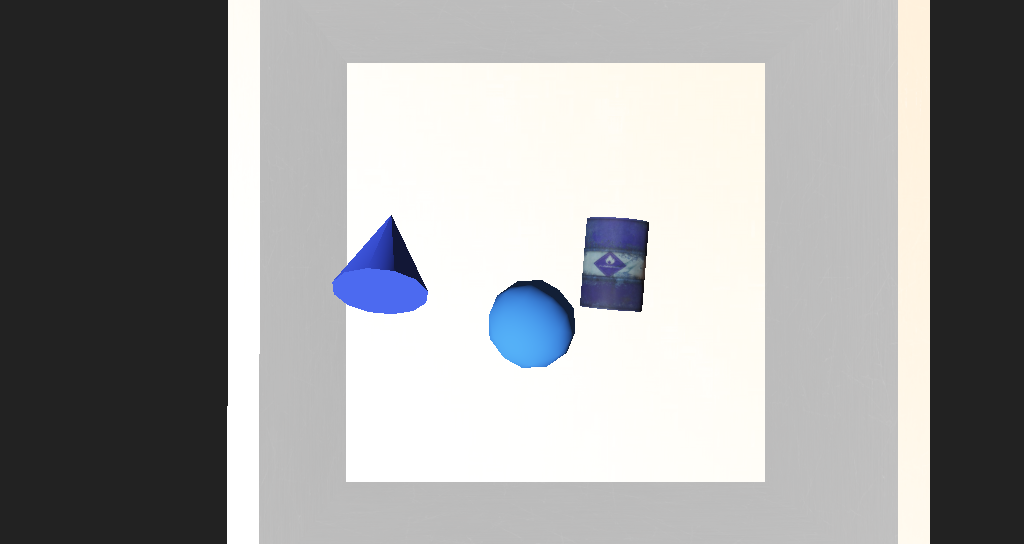cone: (519, 239, 573, 286)
cylinder: (337, 224, 418, 291)
sphere: (451, 274, 519, 317)
